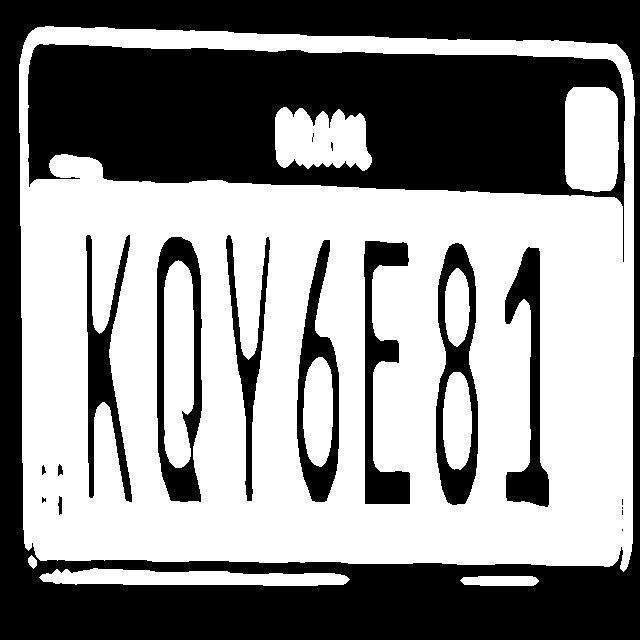1: (496, 228, 564, 534)
6: (289, 216, 355, 535)
8: (430, 220, 494, 533)
e: (358, 224, 426, 538)
k: (69, 213, 134, 525)
q: (142, 211, 216, 529)
y: (220, 208, 281, 531)
